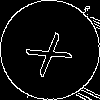X: (25, 25, 82, 78)
